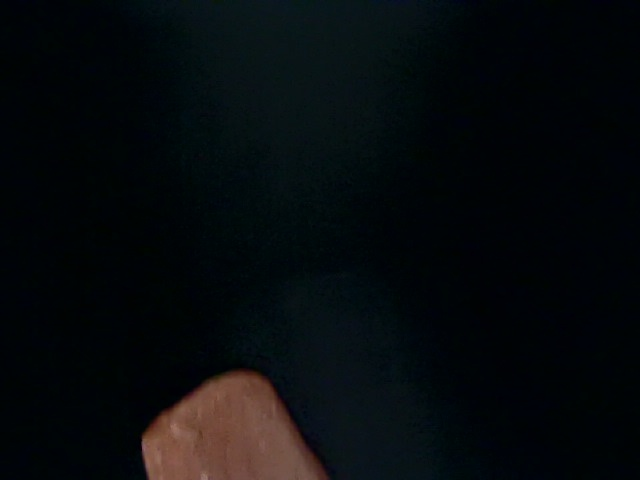KHSLJ: (222, 394, 417, 480)
